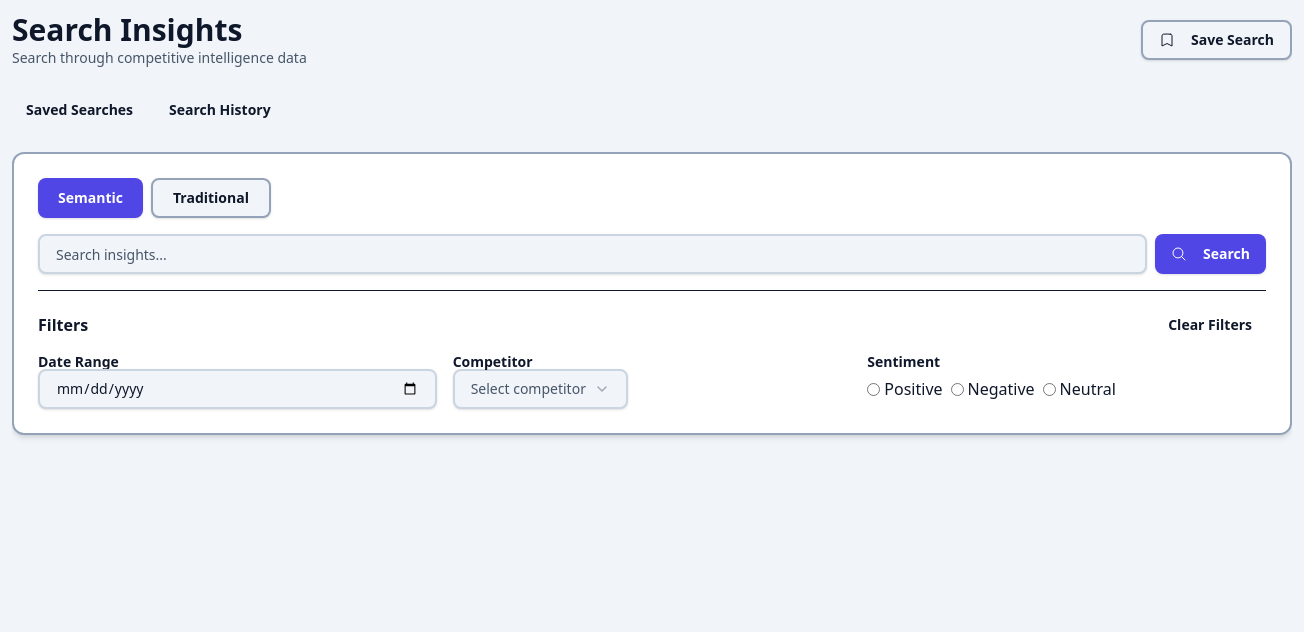
it: Search Page - Integration Tests › should perform search and display results
Type "test query" into the field with placeholder "Search insights..." at (593, 254), box [38,234,1147,274]
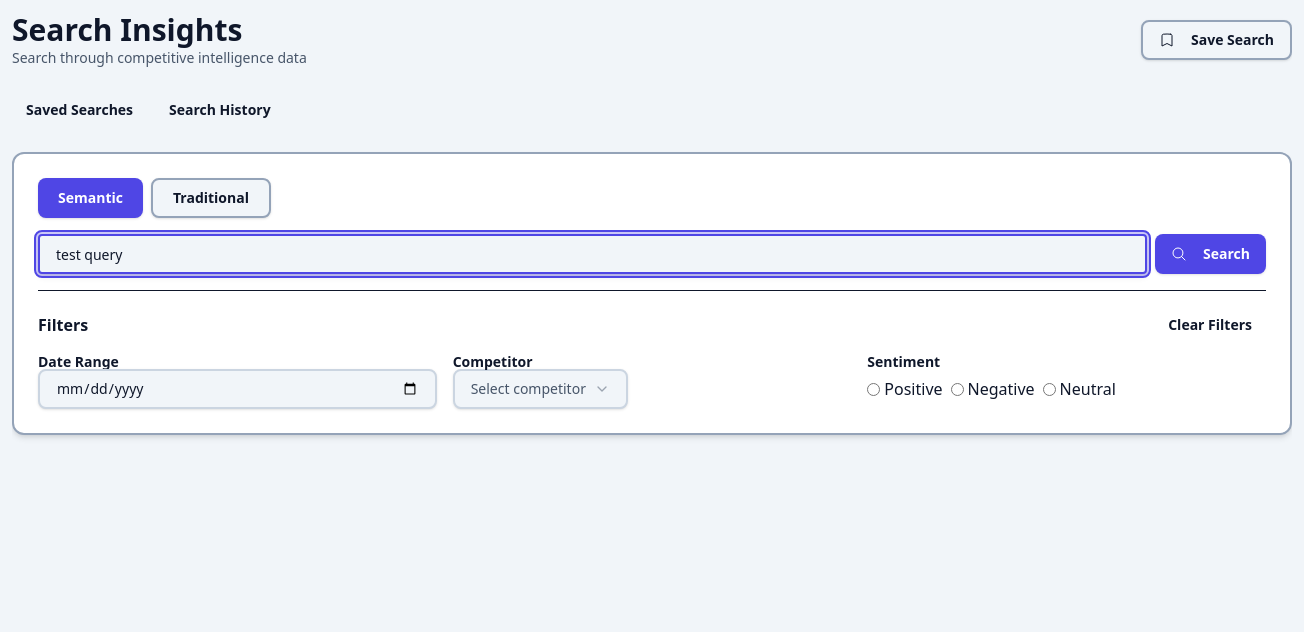
Click the button "Search" at (1211, 254), box [1155,234,1266,274]
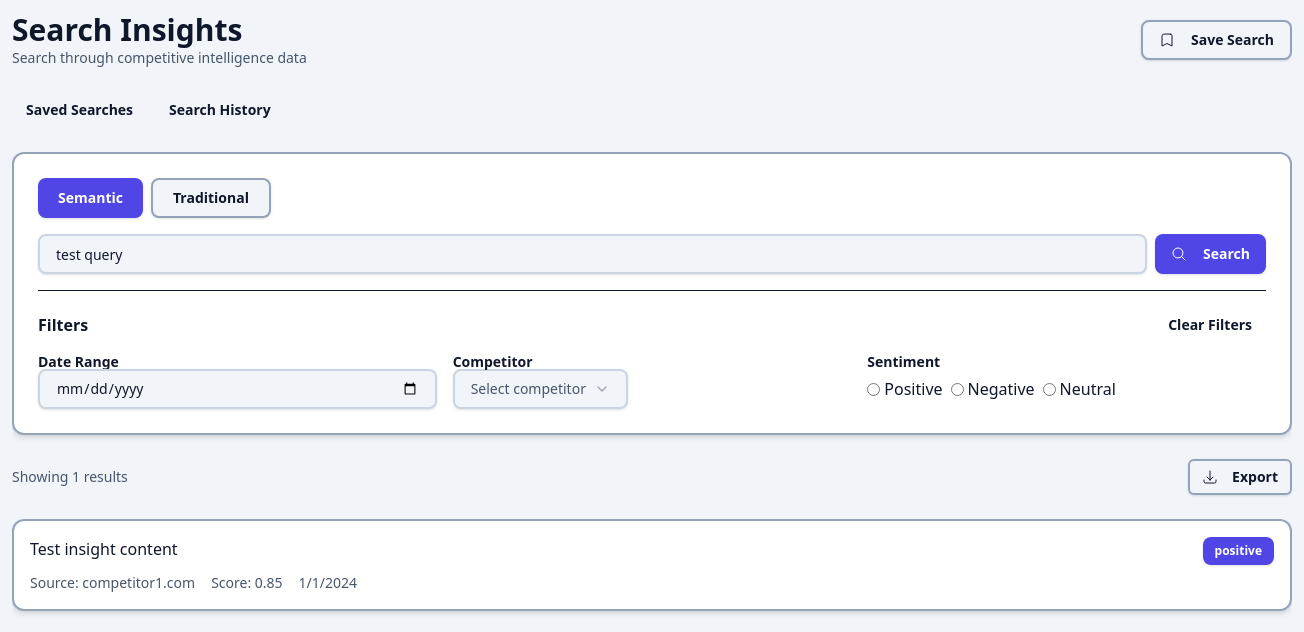
Now the text "Test insight content" is shown, box [30,538,178,560]
